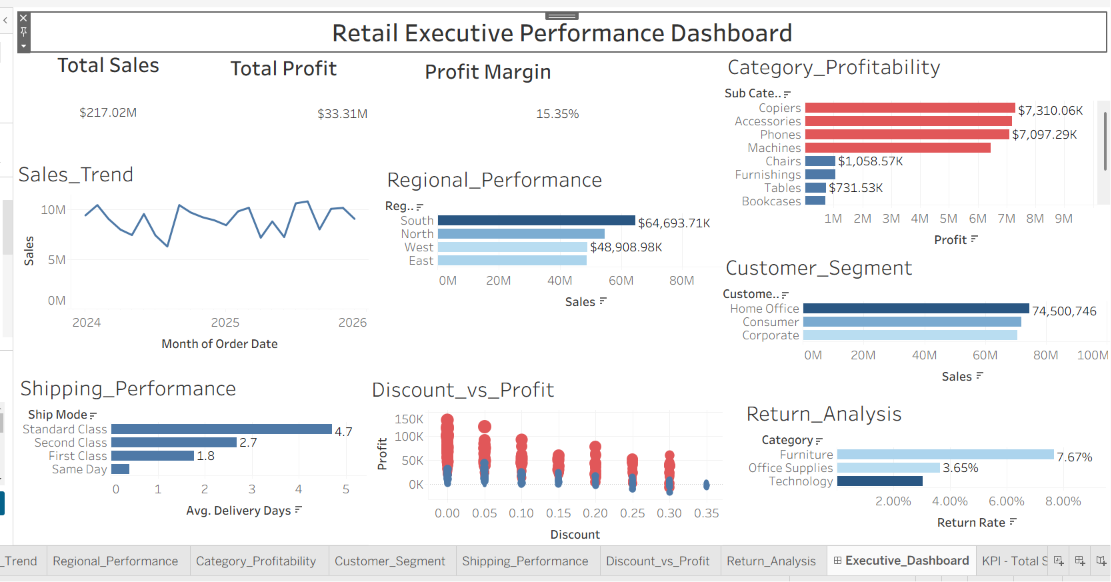

The dashboard page shown, as its layout file describes it:
{"tool":"tableau","page":{"name":"Executive_Dashboard","canvas":[1000,1000],"units":"permille","ordinal":0},"visuals":[{"type":"title","box":[4.9,9.9,990.3,72]},{"type":"worksheet","title":"KPI - Total Sales","mark":"Automatic","box":[4.2,74.4,164.3,171.2]},{"type":"worksheet","title":"Category_Profitability","mark":"Automatic","rows":["sub_category"],"cols":["profit"],"box":[647.8,78.2,354,377.2]},{"type":"worksheet","title":"KPI - Total Profit","mark":"Automatic","box":[166.8,80.7,158.3,165]},{"type":"worksheet","title":"KPI - Profit Margin","mark":"Automatic","box":[346.9,86.9,171,152.6]},{"type":"worksheet","title":"Sales_Trend","mark":"Automatic","rows":["sales"],"cols":["order_date"],"box":[1.8,277.9,321.8,371]},{"type":"worksheet","title":"Regional_Performance","mark":"Bar","rows":["region"],"cols":["sales"],"box":[337.6,287.8,309.1,375.9]},{"type":"worksheet","title":"Customer_Segment","mark":"Automatic","rows":["customer_segment"],"cols":["sales"],"box":[646,451.6,354,260.6]},{"type":"worksheet","title":"Shipping_Performance","mark":"Automatic","rows":["ship_mode"],"cols":["delivery_days"],"box":[3.6,676.2,318.2,317.6]},{"type":"worksheet","title":"Discount_vs_Profit","mark":"Circle","rows":["profit"],"cols":["discount"],"box":[323.6,678.7,322.4,325.1]},{"type":"worksheet","title":"Return_Analysis","mark":"Automatic","rows":["category"],"cols":["Calculation_0264175152455685"],"box":[664.9,723.3,330.3,277.9]}]}

Visuals, with their boxes on the dashboard's canvas, which has no fixed pixel size, in thousandths of its width and height (x1, y1, x2, y2). These are canvas units, not pixel positions in the 1111x582 screenshot, which may show the page scaled, cropped or inside an application window:
title: (5,10,995,82)
"KPI - Total Sales" worksheet: (4,74,168,246)
"Category_Profitability" worksheet: (648,78,1002,455)
"KPI - Total Profit" worksheet: (167,81,325,246)
"KPI - Profit Margin" worksheet: (347,87,518,240)
"Sales_Trend" worksheet: (2,278,324,649)
"Regional_Performance" worksheet (Bar marks): (338,288,647,664)
"Customer_Segment" worksheet: (646,452,1000,712)
"Shipping_Performance" worksheet: (4,676,322,994)
"Discount_vs_Profit" worksheet (Circle marks): (324,679,646,1004)
"Return_Analysis" worksheet: (665,723,995,1001)
